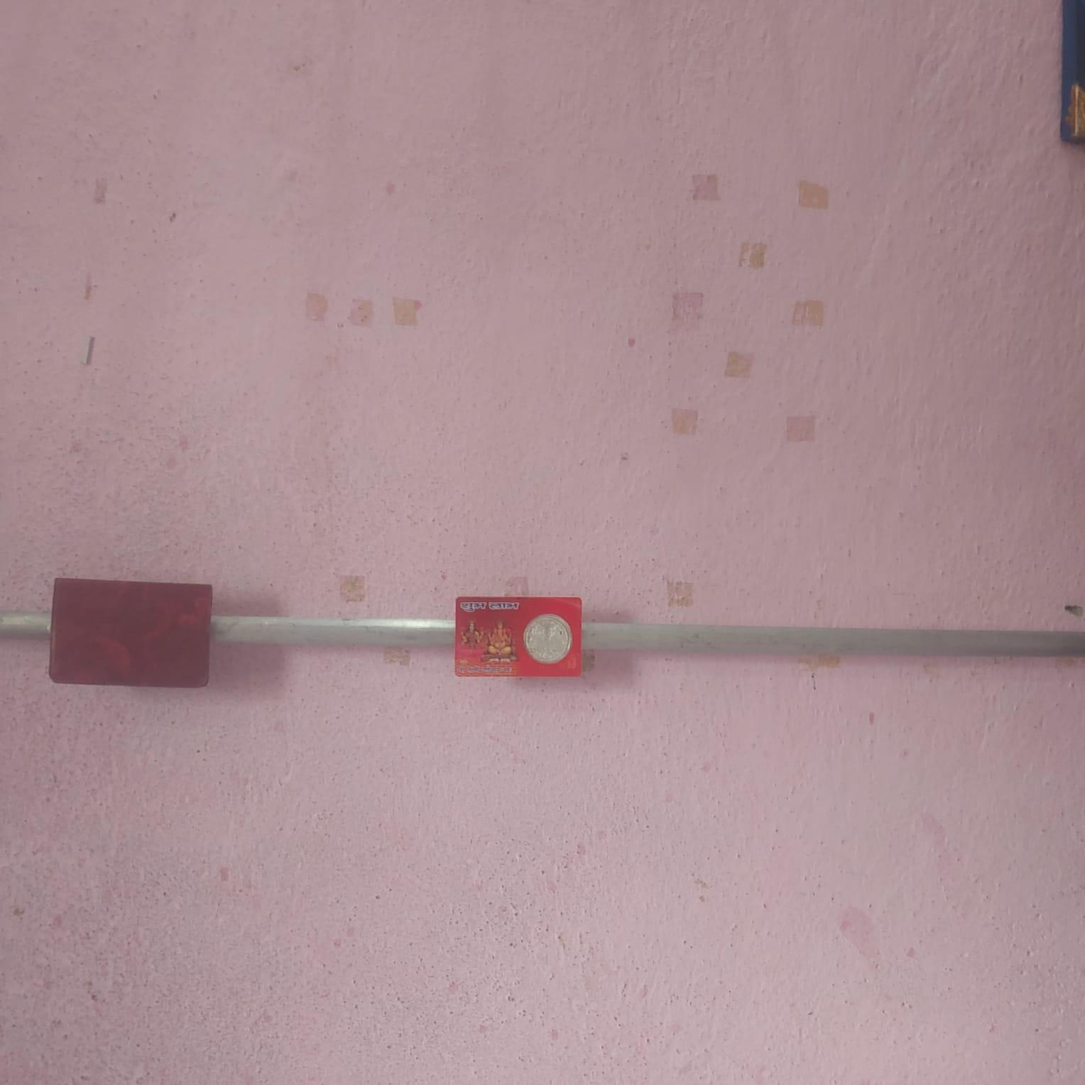blessing_card: (447, 588, 587, 682)
wallet: (48, 573, 211, 687)
